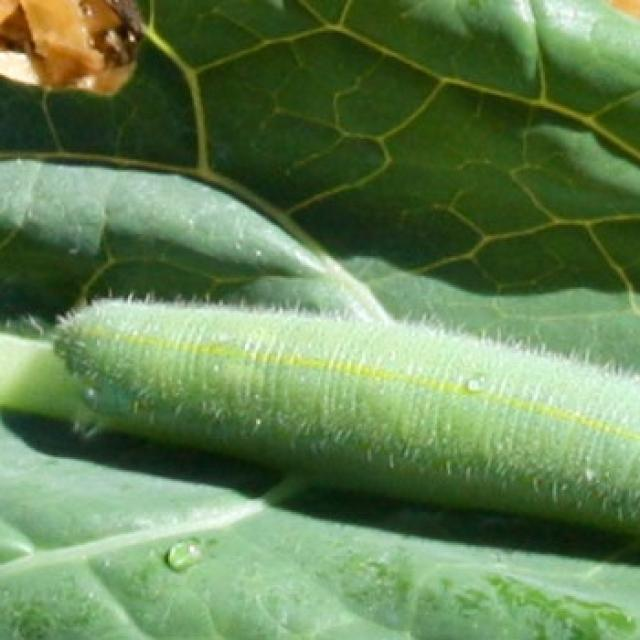Cabbage-worm: (42, 269, 640, 601)
